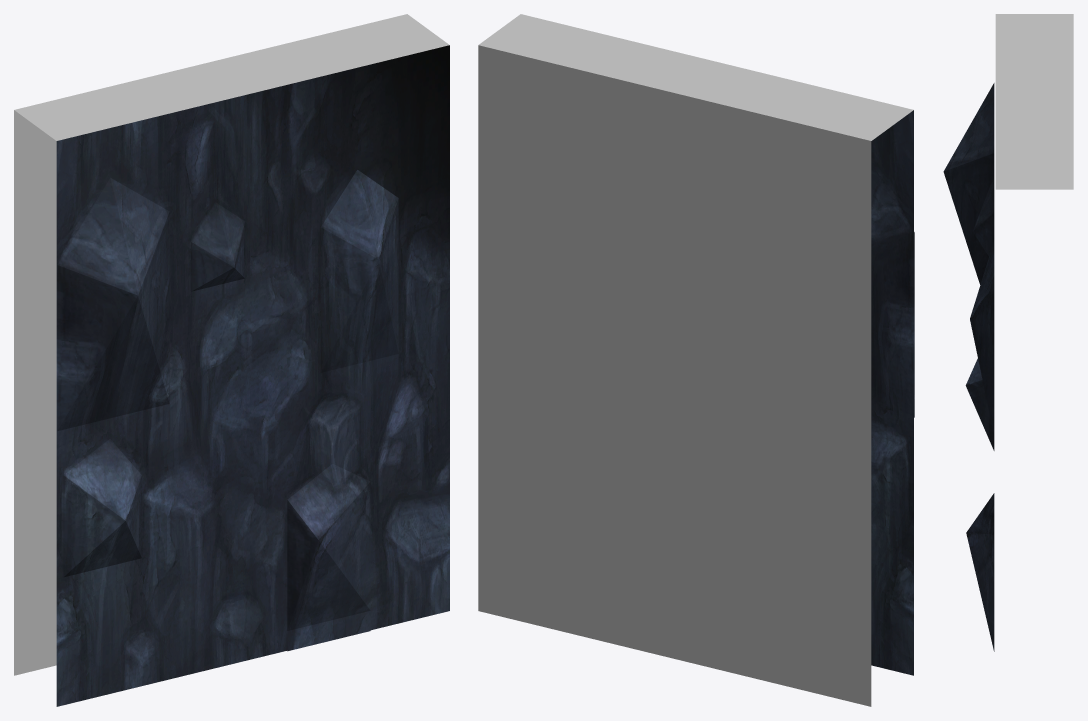
Rendered from mine_fade_transition_02.fbx.
3 renders of one model, left to right at view 1: azimuth 30°, elevation 25°; view 2: azimuth 150°, elevation 25°; view 3: azimuth 270°, elevation 25°, orthographic. The views are drawn at different scales.
Parts seen in each view (by area): view 1: obj2.011; view 2: obj2.011; view 3: obj2.011.
Boxes of the visible parts, x1,y1,x2,y2 form: obj2.011: (14, 14, 449, 706); obj2.011: (478, 14, 914, 706); obj2.011: (943, 14, 1073, 651).
Size of the model in its own units: 4 by 5.5 by 1.25.
